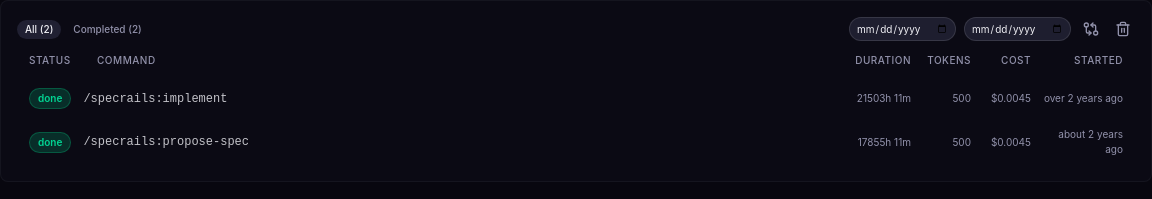
Test: RecentJobs - extended coverage › date range filter › filters jobs by dateTo
This screenshot has width=1152, height=199.
In the date field titled "To date": (1018, 29) 964,17 -> 1071,41, type "2024-03-01"
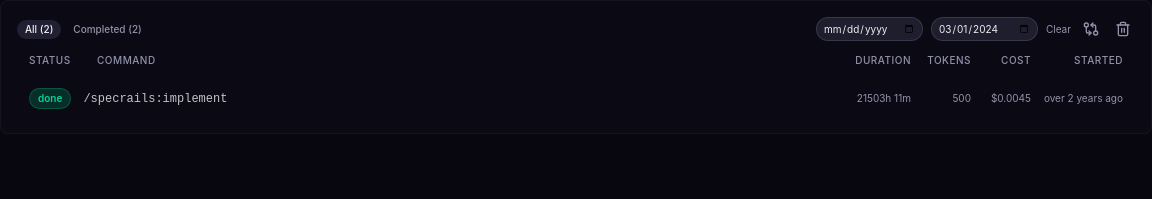
Check: the text "/specrails:implement" is shown, box 83,90 -> 227,106
Check: the button "/specrails:propose-spec" is gone
